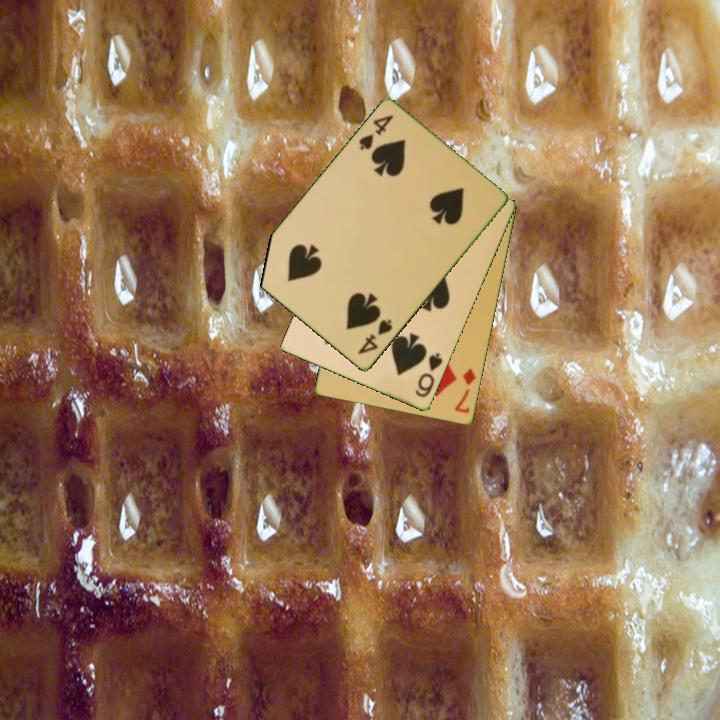4s: (354, 316, 395, 358), (355, 112, 396, 154)
6s: (411, 350, 446, 401)
7d: (451, 365, 479, 417)
